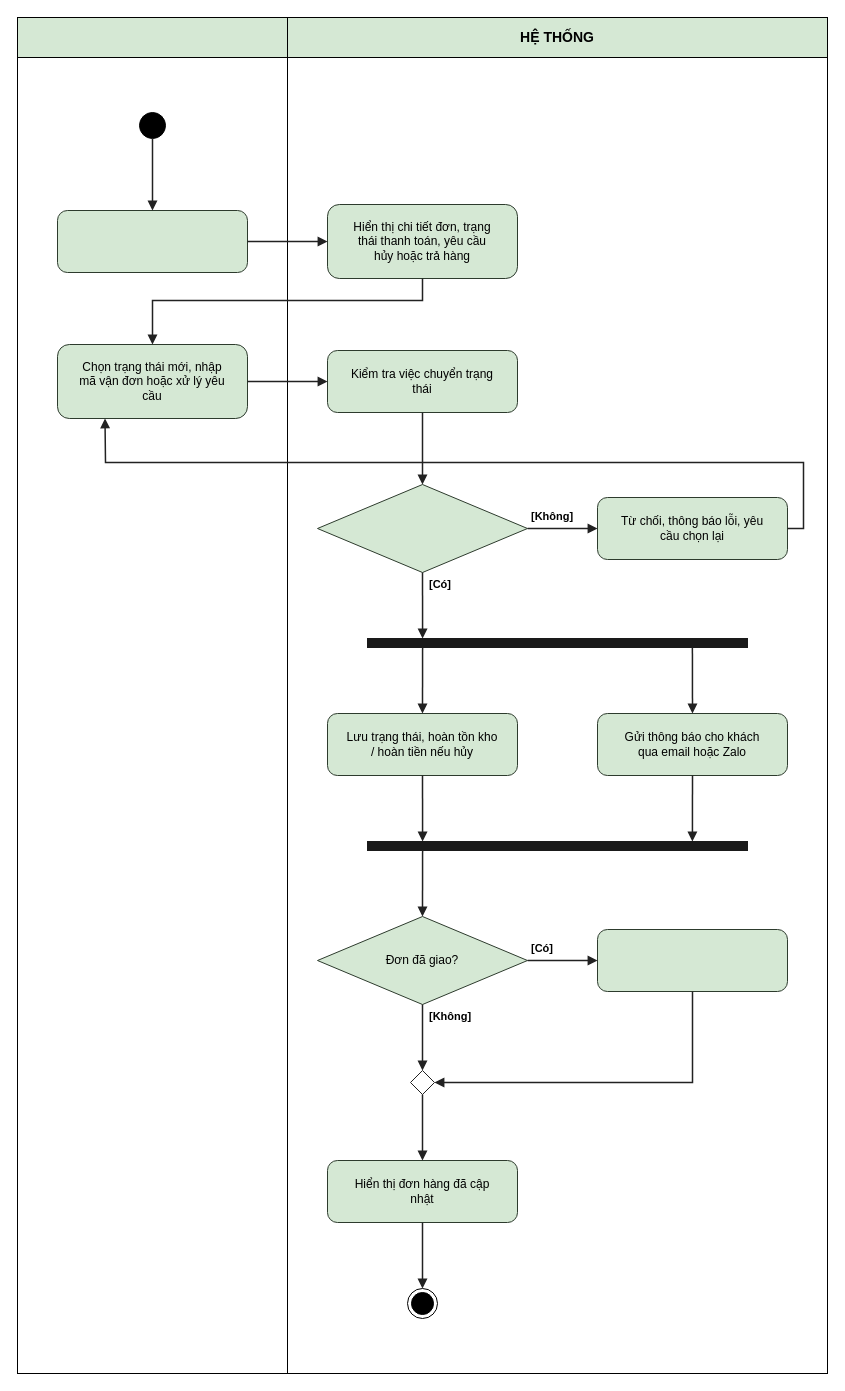
The diagram is 845 pixels wide and 1391 high, and some of its shapes have lost their labels. Here are the shapes that lost their labels. From the top down, the centre of each, then its label:
(x=152, y=37): QUẢN TRỊ VIÊN
(x=152, y=241): Vào "Quản lý đơn hàng", chọn đơn cần xử lý
(x=422, y=528): Chuyển trạng thái hợp lệ?
(x=692, y=960): Cộng điểm tích lũy cho khách hàng
